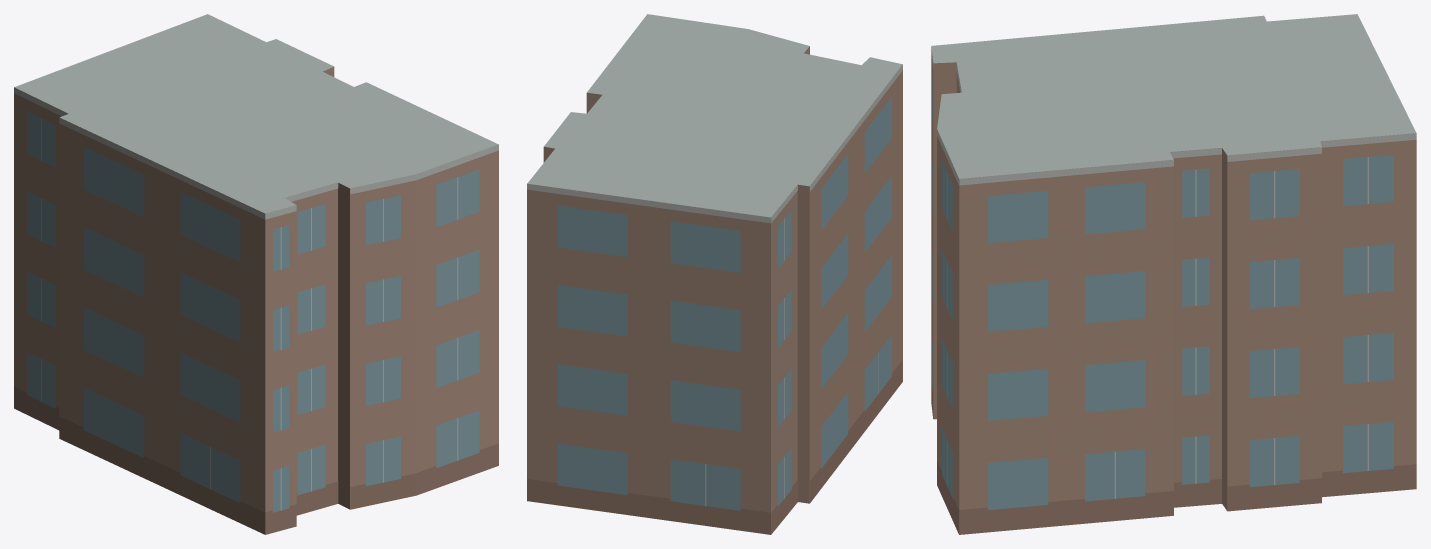
File: survey-upis-32816404.glb
3 views of the same model, side by side, from view 1: azimuth 30°, elevation 25°; view 2: azimuth 150°, elevation 25°; view 3: azimuth 270°, elevation 25° (orthographic). The views are drawn at different scales.
Parts seen in each view (by area): view 1: survey-upis-32816404.tmp; view 2: survey-upis-32816404.tmp; view 3: survey-upis-32816404.tmp.
Part boxes in pixels (x1,y1,x2,y2): survey-upis-32816404.tmp: (14, 14, 498, 534); survey-upis-32816404.tmp: (527, 14, 902, 534); survey-upis-32816404.tmp: (931, 14, 1416, 534).
Size of the model in its own units: 13.02 by 13.1 by 16.19.
